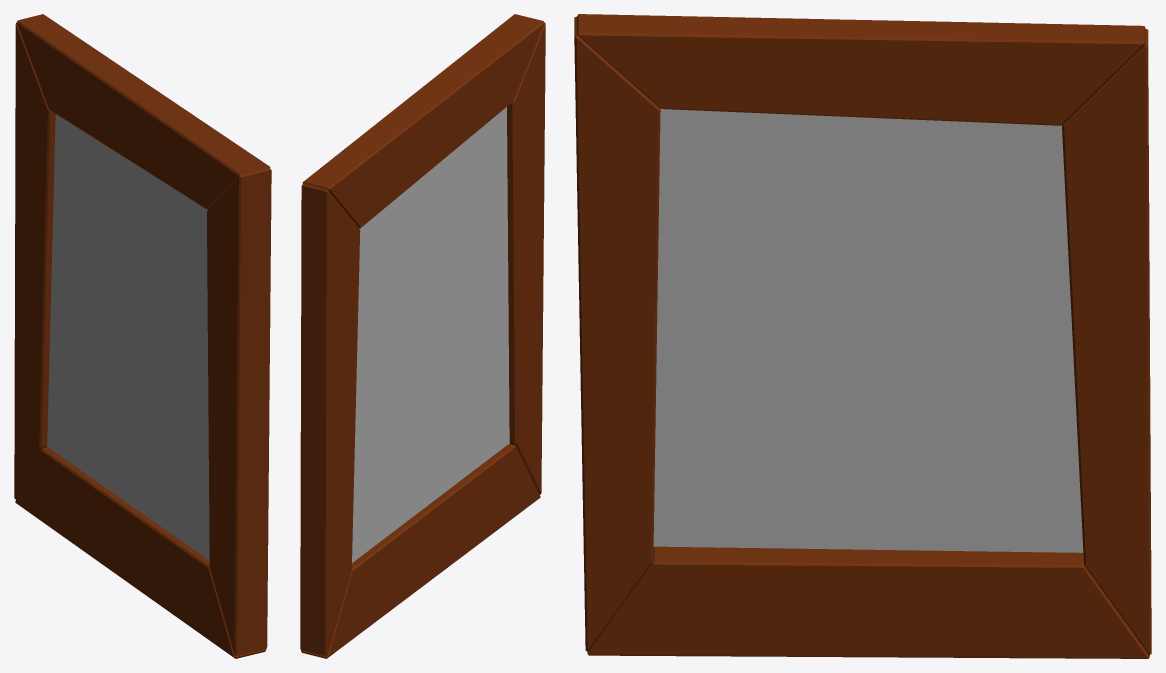
The model's file is Photo_Frame_03.glb.
3 renders of one model, left to right at view 1: azimuth 30°, elevation 25°; view 2: azimuth 150°, elevation 25°; view 3: azimuth 270°, elevation 25°, orthographic. The views are drawn at different scales.
Visible parts, largest first — view 1: Picture7; view 2: Picture7; view 3: Picture7.
Part boxes in pixels (x1=…): Picture7: x1=14, y1=14, x2=271, y2=658; Picture7: x1=300, y1=14, x2=545, y2=658; Picture7: x1=574, y1=14, x2=1151, y2=658.
Bounding box in the file's own units: 0.0477 × 0.6898 × 0.5734.
